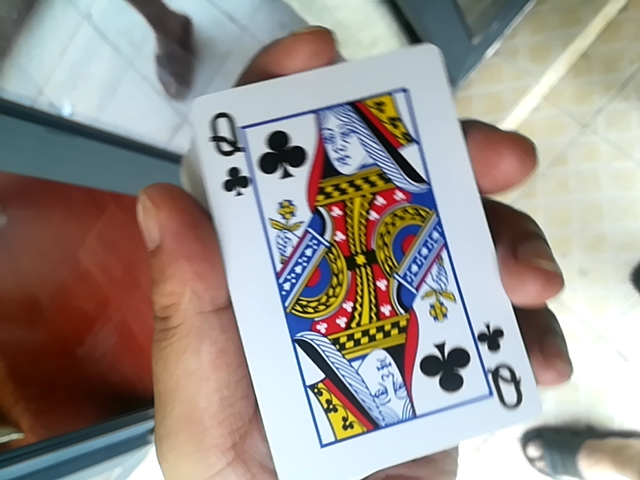mh q: (189, 23, 558, 475)
